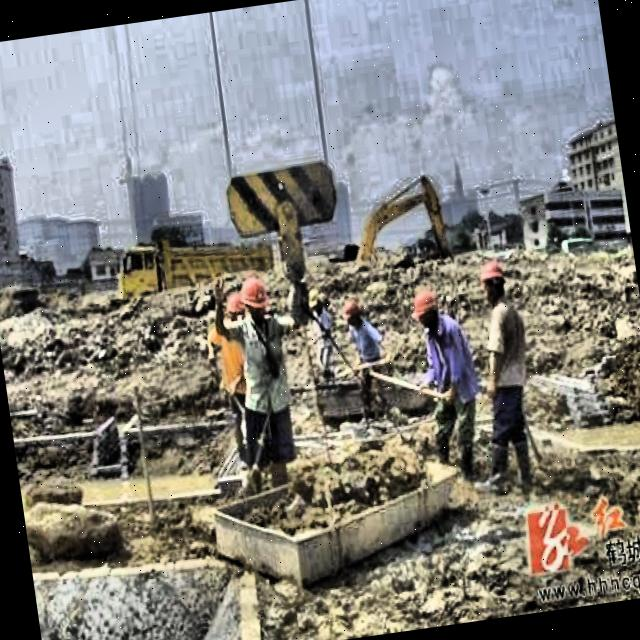helmet: (474, 254, 513, 306), (233, 272, 270, 324), (403, 288, 444, 334), (336, 292, 365, 330), (220, 292, 250, 326), (302, 283, 324, 316)
